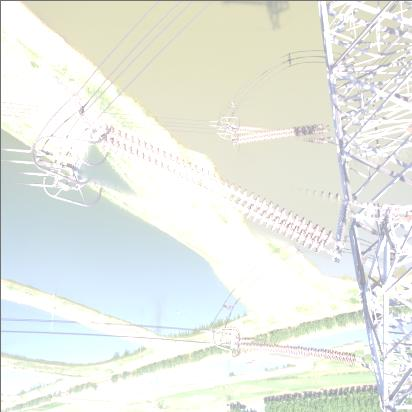insulator: (78, 140, 357, 243), (232, 333, 365, 373), (232, 119, 331, 154)
